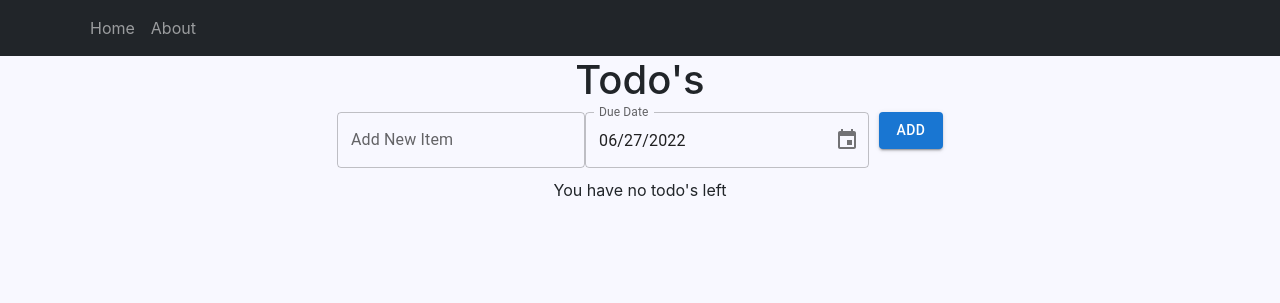
Test case: tests that App component doesn't add a task without due date
Type "History Test" into the field labelled "Add New Item" at (461, 140), box top-left (337, 112), bottom-right (585, 168)
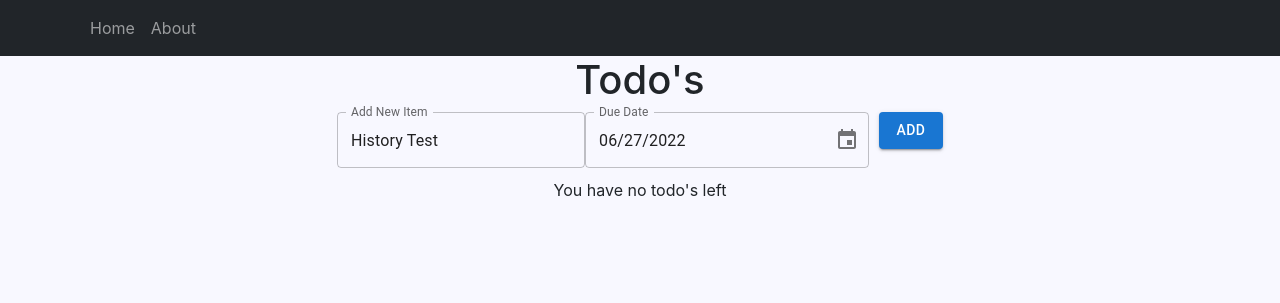
Clear the field with placeholder "mm/dd/yyyy" at (702, 140), box top-left (585, 112), bottom-right (819, 168)
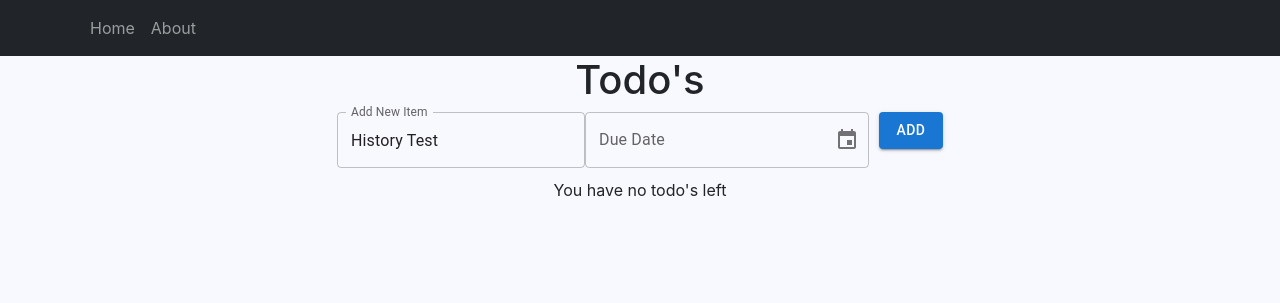
Click the button "Add" at (911, 130), box top-left (879, 112), bottom-right (943, 148)
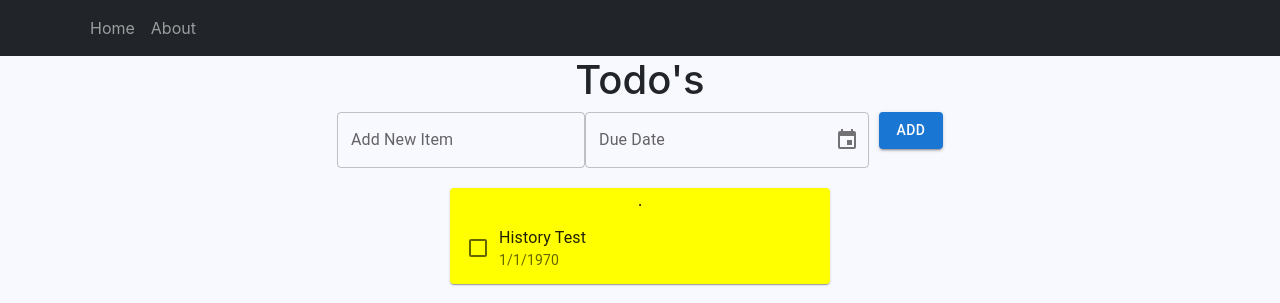
Check: the text "History Test" is shown, box top-left (499, 228), bottom-right (586, 247)
